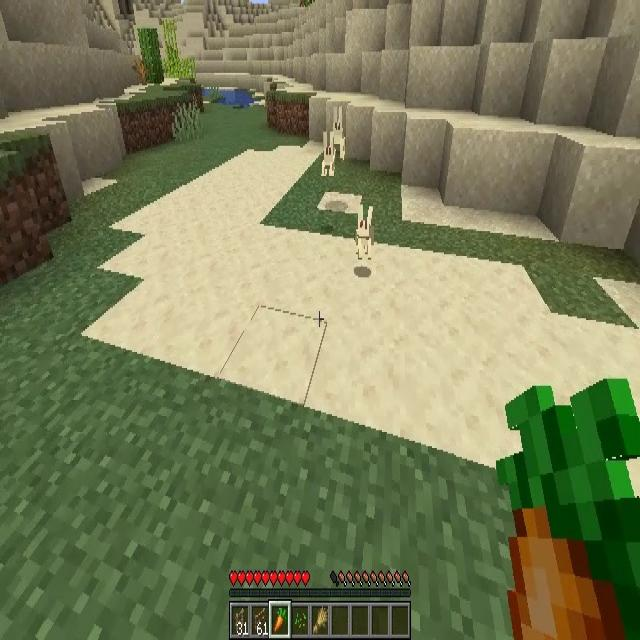rabbit: (354, 202, 374, 262), (322, 132, 338, 176), (333, 106, 347, 153)
